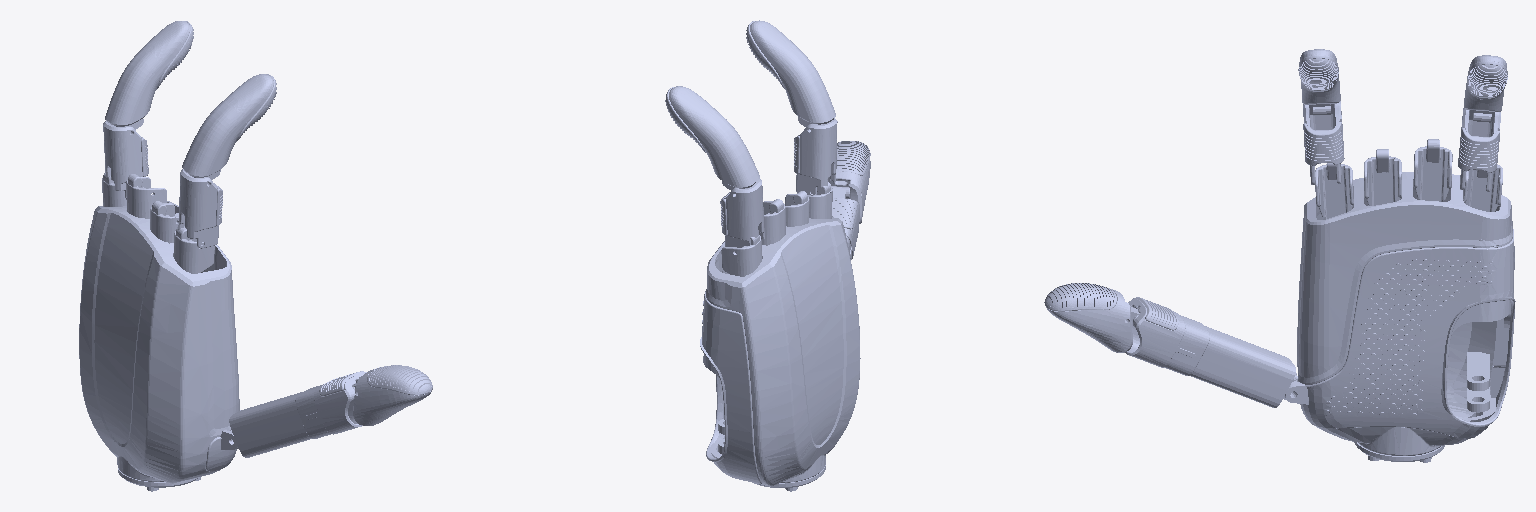
URDF robot description (linkerhand_L6V3.1_left):
<?xml version="1.0" encoding="utf-8"?>
<!-- This URDF was automatically created by SolidWorks to URDF Exporter! Originally created by Stephen Brawner (brawner@gmail.com) 
     Commit Version: 1.6.0-1-g15f4949  Build Version: 1.6.7594.29634
     For more information, please see http://wiki.ros.org/sw_urdf_exporter -->
<robot
  name="linkerhand_L6V3.1_left">
  <link
    name="hand_base_link">
    <inertial>
      <origin
        xyz="0.0128298250982812 -0.021630428371584 0.116390759303948"
        rpy="0 0 0" />
      <mass
        value="0.525546273770347" />
      <inertia
        ixx="0.00275104458077111"
        ixy="0.000241223825957363"
        ixz="2.64979780975382E-05"
        iyy="0.00165967539426343"
        iyz="-0.000600773268926636"
        izz="0.00133471527053025" />
    </inertial>
    <visual>
      <origin
        xyz="0 0 0"
        rpy="0 0 0" />
      <geometry>
        <mesh
          filename="meshes/hand_base_link.STL" />
      </geometry>
      <material
        name="">
        <color
          rgba="0.796078431372549 0.823529411764706 0.937254901960784 1" />
      </material>
    </visual>
    <collision>
      <origin
        xyz="0 0 0"
        rpy="0 0 0" />
      <geometry>
        <mesh
          filename="meshes/hand_base_link.STL" />
      </geometry>
    </collision>
  </link>
  <link
    name="thumb_metacarpals_base1">
    <inertial>
      <origin
        xyz="0.00501656118454501 0.00826797388845102 0.0896985736828346"
        rpy="0 0 0" />
      <mass
        value="0.525546273770347" />
      <inertia
        ixx="0.00275104458077111"
        ixy="0.000241223825957363"
        ixz="2.64979780975382E-05"
        iyy="0.00165967539426343"
        iyz="-0.000600773268926636"
        izz="0.00133471527053025" />
    </inertial>
    <visual>
      <origin
        xyz="0 0 0"
        rpy="0 0 0" />
      <geometry>
        <mesh
          filename="meshes/thumb_metacarpals_base1.STL" />
      </geometry>
      <material
        name="">
        <color
          rgba="0.796078431372549 0.823529411764706 0.937254901960784 1" />
      </material>
    </visual>
    <collision>
      <origin
        xyz="0 0 0"
        rpy="0 0 0" />
      <geometry>
        <mesh
          filename="meshes/thumb_metacarpals_base1.STL" />
      </geometry>
    </collision>
  </link>
  <joint
    name="thumb_cmc_roll"
    type="revolute">
    <origin
      xyz="0.0078133 -0.029898 0.026692"
      rpy="0 0 0" />
    <parent
      link="hand_base_link" />
    <child
      link="thumb_metacarpals_base1" />
    <axis
      xyz="0 0 1" />
    <limit
      lower="0"
      upper="1.53"
      effort="0"
      velocity="4.67" />
  </joint>
  <link
    name="thumb_metacarpals">
    <inertial>
      <origin
        xyz="0.00634447457633638 0.0861308496109555 0.0222939123942164"
        rpy="0 0 0" />
      <mass
        value="0.525546273770347" />
      <inertia
        ixx="0.00278761777129622"
        ixy="-0.000201107027639807"
        ixz="5.09308410778808E-05"
        iyy="0.000917534978532124"
        iyz="0.000202929588966586"
        izz="0.00204028249573645" />
    </inertial>
    <visual>
      <origin
        xyz="0 0 0"
        rpy="0 0 0" />
      <geometry>
        <mesh
          filename="meshes/thumb_metacarpals.STL" />
      </geometry>
      <material
        name="">
        <color
          rgba="0.796078431372549 0.823529411764706 0.937254901960784 1" />
      </material>
    </visual>
    <collision>
      <origin
        xyz="0 0 0"
        rpy="0 0 0" />
      <geometry>
        <mesh
          filename="meshes/thumb_metacarpals.STL" />
      </geometry>
    </collision>
  </link>
  <joint
    name="thumb_cmc_pitch"
    type="revolute">
    <origin
      xyz="0.0047867 -0.013583 0.0032216"
      rpy="1.084 0.011362 0.33143" />
    <parent
      link="thumb_metacarpals_base1" />
    <child
      link="thumb_metacarpals" />
    <axis
      xyz="-1 0 0" />
    <limit
      lower="0"
      upper="0.73"
      effort="0"
      velocity="1.92" />
  </joint>
  <link
    name="thumb_distal">
    <inertial>
      <origin
        xyz="0.00737276679515254 0.0799426766932592 -0.0604060876058207"
        rpy="0 0 0" />
      <mass
        value="0.525546273770347" />
      <inertia
        ixx="0.00278213859177961"
        ixy="-0.000225078951682982"
        ixz="5.35353428889284E-05"
        iyy="0.00092301415804901"
        iyz="0.000202258091835229"
        izz="0.00204028249573617" />
    </inertial>
    <visual>
      <origin
        xyz="0 0 0"
        rpy="0 0 0" />
      <geometry>
        <mesh
          filename="meshes/thumb_distal.STL" />
      </geometry>
      <material
        name="">
        <color
          rgba="0.796078431372549 0.823529411764706 0.937254901960784 1" />
      </material>
    </visual>
    <collision>
      <origin
        xyz="0 0 0"
        rpy="0 0 0" />
      <geometry>
        <mesh
          filename="meshes/thumb_distal.STL" />
      </geometry>
    </collision>
  </link>
  <joint
    name="thumb_dip"
    type="revolute">
    <origin
      xyz="0 0.0061 0.0827"
      rpy="0 0 0.012856" />
    <parent
      link="thumb_metacarpals" />
    <child
      link="thumb_distal" />
    <axis
      xyz="-1 0 0" />
    <limit
      lower="0"
      upper="0.66"
      effort="0"
      velocity="1.7" />
    <mimic
      joint="thumb_cmc_pitch"
      multiplier="1.9"
      offset="0" />
  </joint>
  <link
    name="index_proximal">
    <inertial>
      <origin
        xyz="0.0134980367367679 0.00728303484140047 -0.00121578689141244"
        rpy="0 0 0" />
      <mass
        value="0.525546273770347" />
      <inertia
        ixx="0.00275104458077156"
        ixy="0.000242280034109678"
        ixz="1.38369839406228E-05"
        iyy="0.00159598740490746"
        iyz="-0.000614465961278097"
        izz="0.00139840325988577" />
    </inertial>
    <visual>
      <origin
        xyz="0 0 0"
        rpy="0 0 0" />
      <geometry>
        <mesh
          filename="meshes/index_proximal.STL" />
      </geometry>
      <material
        name="">
        <color
          rgba="0.796078431372549 0.823529411764706 0.937254901960784 1" />
      </material>
    </visual>
    <collision>
      <origin
        xyz="0 0 0"
        rpy="0 0 0" />
      <geometry>
        <mesh
          filename="meshes/index_proximal.STL" />
      </geometry>
    </collision>
  </link>
  <joint
    name="index_mcp_pitch"
    type="revolute">
    <origin
      xyz="-0.00066821 -0.028967 0.11722"
      rpy="0.05236 0 0" />
    <parent
      link="hand_base_link" />
    <child
      link="index_proximal" />
    <axis
      xyz="0 1 0" />
    <limit
      lower="0"
      upper="1.22"
      effort="0"
      velocity="3.4" />
  </joint>
  <link
    name="index_distal">
    <inertial>
      <origin
        xyz="0.0125605514144544 0.0072830348414184 -0.0292179496877288"
        rpy="0 0 0" />
      <mass
        value="0.525546273770347" />
      <inertia
        ixx="0.00275104458077099"
        ixy="0.000242280034109912"
        ixz="1.3836983938613E-05"
        iyy="0.00159598740490809"
        iyz="-0.000614465961278584"
        izz="0.00139840325988572" />
    </inertial>
    <visual>
      <origin
        xyz="0 0 0"
        rpy="0 0 0" />
      <geometry>
        <mesh
          filename="meshes/index_distal.STL" />
      </geometry>
      <material
        name="">
        <color
          rgba="0.796078431372549 0.823529411764706 0.937254901960784 1" />
      </material>
    </visual>
    <collision>
      <origin
        xyz="0 0 0"
        rpy="0 0 0" />
      <geometry>
        <mesh
          filename="meshes/index_distal.STL" />
      </geometry>
    </collision>
  </link>
  <joint
    name="index_dip"
    type="revolute">
    <origin
      xyz="0.00093749 0 0.028002"
      rpy="0 0 0" />
    <parent
      link="index_proximal" />
    <child
      link="index_distal" />
    <axis
      xyz="0 1 0" />
    <limit
      lower="0"
      upper="1.08"
      effort="0"
      velocity="3.1" />
    <mimic
      joint="index_mcp_pitch"
      multiplier="1.88"
      offset="0" />
  </joint>
  <link
    name="middle_proximal">
    <inertial>
      <origin
        xyz="0.0134980367369037 -0.0127291142681252 -0.0068303319311588"
        rpy="0 0 0" />
      <mass
        value="0.525546273770347" />
      <inertia
        ixx="0.00275104458077169"
        ixy="0.00024122382595605"
        ixz="2.6497978096815E-05"
        iyy="0.00165967539426285"
        iyz="-0.000600773268926668"
        izz="0.00133471527053025" />
    </inertial>
    <visual>
      <origin
        xyz="0 0 0"
        rpy="0 0 0" />
      <geometry>
        <mesh
          filename="meshes/middle_proximal.STL" />
      </geometry>
      <material
        name="">
        <color
          rgba="0.796078431372549 0.823529411764706 0.937254901960784 1" />
      </material>
    </visual>
    <collision>
      <origin
        xyz="0 0 0"
        rpy="0 0 0" />
      <geometry>
        <mesh
          filename="meshes/middle_proximal.STL" />
      </geometry>
    </collision>
  </link>
  <joint
    name="middle_mcp_pitch"
    type="revolute">
    <origin
      xyz="-0.00066821 -0.0089013 0.12322"
      rpy="0 0 0" />
    <parent
      link="hand_base_link" />
    <child
      link="middle_proximal" />
    <axis
      xyz="0 1 0" />
    <limit
      lower="0"
      upper="1.22"
      effort="0"
      velocity="3.4" />
  </joint>
  <link
    name="middle_distal">
    <inertial>
      <origin
        xyz="0.0125605514146649 -0.0127291142681054 -0.0348324947274665"
        rpy="0 0 0" />
      <mass
        value="0.525546273770347" />
      <inertia
        ixx="0.00275104458077099"
        ixy="0.000241223825957497"
        ixz="2.64979780972907E-05"
        iyy="0.00165967539426357"
        iyz="-0.0006007732689267"
        izz="0.00133471527053024" />
    </inertial>
    <visual>
      <origin
        xyz="0 0 0"
        rpy="0 0 0" />
      <geometry>
        <mesh
          filename="meshes/middle_distal.STL" />
      </geometry>
      <material
        name="">
        <color
          rgba="0.796078431372549 0.823529411764706 0.937254901960784 1" />
      </material>
    </visual>
    <collision>
      <origin
        xyz="0 0 0"
        rpy="0 0 0" />
      <geometry>
        <mesh
          filename="meshes/middle_distal.STL" />
      </geometry>
    </collision>
  </link>
  <joint
    name="middle_dip"
    type="revolute">
    <origin
      xyz="0.00093749 0 0.028002"
      rpy="0 0 0" />
    <parent
      link="middle_proximal" />
    <child
      link="middle_distal" />
    <axis
      xyz="0 1 0" />
    <limit
      lower="0"
      upper="1.08"
      effort="0"
      velocity="3.1" />
    <mimic
      joint="middle_mcp_pitch"
      multiplier="1.88"
      offset="0" />
  </joint>
  <link
    name="ring_proximal">
    <inertial>
      <origin
        xyz="0.0135034763891073 -0.0322070589924826 -0.00352273770938985"
        rpy="0 0 0" />
      <mass
        value="0.525546273770347" />
      <inertia
        ixx="0.00275104528718287"
        ixy="0.000239501193453185"
        ixz="3.90729826779646E-05"
        iyy="0.00172158321805657"
        iyz="-0.000580500543580659"
        izz="0.00127280674032535" />
    </inertial>
    <visual>
      <origin
        xyz="0 0 0"
        rpy="0 0 0" />
      <geometry>
        <mesh
          filename="meshes/ring_proximal.STL" />
      </geometry>
      <material
        name="">
        <color
          rgba="0.796078431372549 0.823529411764706 0.937254901960784 1" />
      </material>
    </visual>
    <collision>
      <origin
        xyz="0 0 0"
        rpy="0 0 0" />
      <geometry>
        <mesh
          filename="meshes/ring_proximal.STL" />
      </geometry>
    </collision>
  </link>
  <joint
    name="ring_mcp_pitch"
    type="revolute">
    <origin
      xyz="-0.00067368 0.010717 0.11822"
      rpy="-0.05236 0 0" />
    <parent
      link="hand_base_link" />
    <child
      link="ring_proximal" />
    <axis
      xyz="0 1 0" />
    <limit
      lower="0"
      upper="1.22"
      effort="0"
      velocity="3.4" />
  </joint>
  <link
    name="ring_distal">
    <inertial>
      <origin
        xyz="0.0125662759915461 -0.0322070589925157 -0.0315247869317354"
        rpy="0 0 0" />
      <mass
        value="0.525546273770347" />
      <inertia
        ixx="0.00275104458077099"
        ixy="0.000239506440065448"
        ixz="3.90863431391733E-05"
        iyy="0.00172158321805667"
        iyz="-0.00058049837892126"
        izz="0.00127280744673714" />
    </inertial>
    <visual>
      <origin
        xyz="0 0 0"
        rpy="0 0 0" />
      <geometry>
        <mesh
          filename="meshes/ring_distal.STL" />
      </geometry>
      <material
        name="">
        <color
          rgba="0.796078431372549 0.823529411764706 0.937254901960784 1" />
      </material>
    </visual>
    <collision>
      <origin
        xyz="0 0 0"
        rpy="0 0 0" />
      <geometry>
        <mesh
          filename="meshes/ring_distal.STL" />
      </geometry>
    </collision>
  </link>
  <joint
    name="ring_dip"
    type="revolute">
    <origin
      xyz="0.00093749 0 0.028002"
      rpy="0 0 0" />
    <parent
      link="ring_proximal" />
    <child
      link="ring_distal" />
    <axis
      xyz="0 1 0" />
    <limit
      lower="0"
      upper="1.08"
      effort="0"
      velocity="3.1" />
    <mimic
      joint="ring_mcp_pitch"
      multiplier="1.88"
      offset="0" />
  </joint>
  <link
    name="pinky_proximal">
    <inertial>
      <origin
        xyz="0.0135083263543281 -0.051436290409925 -0.00233914598356055"
        rpy="0 0 0" />
      <mass
        value="0.525546273770347" />
      <inertia
        ixx="0.00275104543784213"
        ixy="0.000237991353146981"
        ixz="4.74074655042703E-05"
        iyy="0.00176153014037169"
        iyz="-0.00056343395740413"
        izz="0.00123285966735098" />
    </inertial>
    <visual>
      <origin
        xyz="0 0 0"
        rpy="0 0 0" />
      <geometry>
        <mesh
          filename="meshes/pinky_proximal.STL" />
      </geometry>
      <material
        name="">
        <color
          rgba="0.796078431372549 0.823529411764706 0.937254901960784 1" />
      </material>
    </visual>
    <collision>
      <origin
        xyz="0 0 0"
        rpy="0 0 0" />
      <geometry>
        <mesh
          filename="meshes/pinky_proximal.STL" />
      </geometry>
    </collision>
  </link>
  <joint
    name="pinky_mcp_pitch"
    type="revolute">
    <origin
      xyz="-0.00067852 0.029814 0.11424"
      rpy="-0.087266 0 0" />
    <parent
      link="hand_base_link" />
    <child
      link="pinky_proximal" />
    <axis
      xyz="0 1 0" />
    <limit
      lower="0"
      upper="1.22"
      effort="0"
      velocity="3.4" />
  </joint>
  <link
    name="pinky_distal">
    <inertial>
      <origin
        xyz="0.0125711152593572 -0.0514362904099614 -0.0303411951621298"
        rpy="0 0 0" />
      <mass
        value="0.525546273770347" />
      <inertia
        ixx="0.00275104458077099"
        ixy="0.000237996445509932"
        ixz="4.74211870101881E-05"
        iyy="0.00176153014037208"
        iyz="-0.000563431806391683"
        izz="0.00123286052442172" />
    </inertial>
    <visual>
      <origin
        xyz="0 0 0"
        rpy="0 0 0" />
      <geometry>
        <mesh
          filename="meshes/pinky_distal.STL" />
      </geometry>
      <material
        name="">
        <color
          rgba="0.796078431372549 0.823529411764706 0.937254901960784 1" />
      </material>
    </visual>
    <collision>
      <origin
        xyz="0 0 0"
        rpy="0 0 0" />
      <geometry>
        <mesh
          filename="meshes/pinky_distal.STL" />
      </geometry>
    </collision>
  </link>
  <joint
    name="pinky_dip"
    type="revolute">
    <origin
      xyz="0.00093749 0 0.028002"
      rpy="0 0 0" />
    <parent
      link="pinky_proximal" />
    <child
      link="pinky_distal" />
    <axis
      xyz="0 1 0" />
    <limit
      lower="0"
      upper="1.08"
      effort="0"
      velocity="3.1" />
    <mimic
      joint="pinky_mcp_pitch"
      multiplier="1.88"
      offset="0" />
  </joint>
</robot>

--- Facts derived from the render (not from the file) ---
Views: 3 orthographic renders of the robot side by side, from view 1: azimuth 30°, elevation 25°; view 2: azimuth 150°, elevation 25°; view 3: azimuth 270°, elevation 25°.
Model linkerhand_L6V3.1_left with 12 links and 11 joints (11 revolute), rooted at hand_base_link, posed all joints at 0.
Visible links, largest first — view 1: hand_base_link, thumb_metacarpals, index_distal, pinky_distal, thumb_distal, index_proximal, pinky_proximal; view 2: hand_base_link, pinky_distal, index_distal, index_proximal, pinky_proximal, thumb_distal, thumb_metacarpals; view 3: hand_base_link, thumb_metacarpals, thumb_distal, pinky_distal, index_distal, pinky_proximal, index_proximal.
Link boxes in pixels (x1,y1,x2,y2): hand_base_link: [79, 173, 240, 491]; thumb_metacarpals: [229, 371, 366, 457]; index_distal: [182, 74, 276, 179]; pinky_distal: [105, 21, 193, 132]; thumb_distal: [353, 365, 432, 425]; index_proximal: [178, 169, 222, 248]; pinky_proximal: [103, 121, 148, 199]; hand_base_link: [700, 182, 860, 491]; pinky_distal: [665, 86, 759, 190]; index_distal: [746, 20, 835, 126]; index_proximal: [794, 118, 837, 195]; pinky_proximal: [720, 179, 764, 253]; thumb_distal: [830, 141, 870, 223]; thumb_metacarpals: [831, 186, 859, 259]; hand_base_link: [1297, 139, 1515, 462]; thumb_metacarpals: [1125, 297, 1297, 407]; thumb_distal: [1044, 283, 1132, 352]; pinky_distal: [1464, 55, 1507, 122]; index_distal: [1298, 49, 1340, 115]; pinky_proximal: [1458, 108, 1500, 191]; index_proximal: [1303, 101, 1344, 184].
Bounding box of the posed robot: 0.0734 × 0.1848 × 0.187 m (x, y, z).
Meshes: 12 distinct files referenced, 8 mesh visuals loaded (8 binary STL); not drawn: 4 (reference not matched to a file when rendering).
